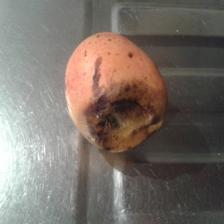Mango Rotten: (63, 27, 165, 156)
